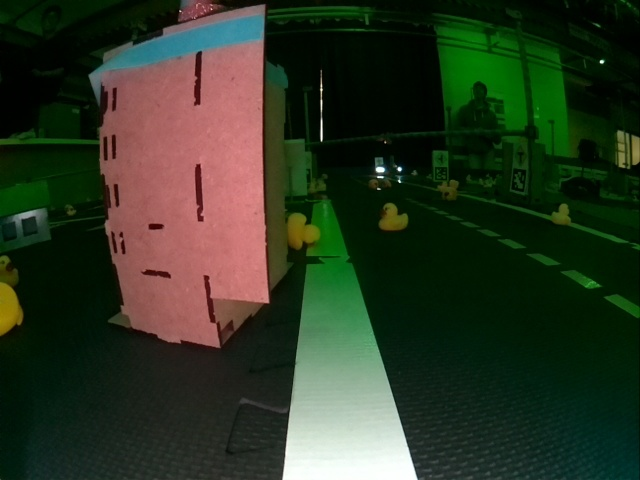Duckie: (285, 213, 318, 250), (0, 283, 22, 337), (378, 203, 408, 231), (0, 255, 18, 284), (550, 204, 571, 224), (440, 185, 457, 201), (382, 178, 392, 188), (368, 180, 378, 189)
Intersection sign: (514, 145, 527, 167), (435, 152, 448, 166)
QR code: (512, 169, 526, 192), (435, 167, 447, 180)
